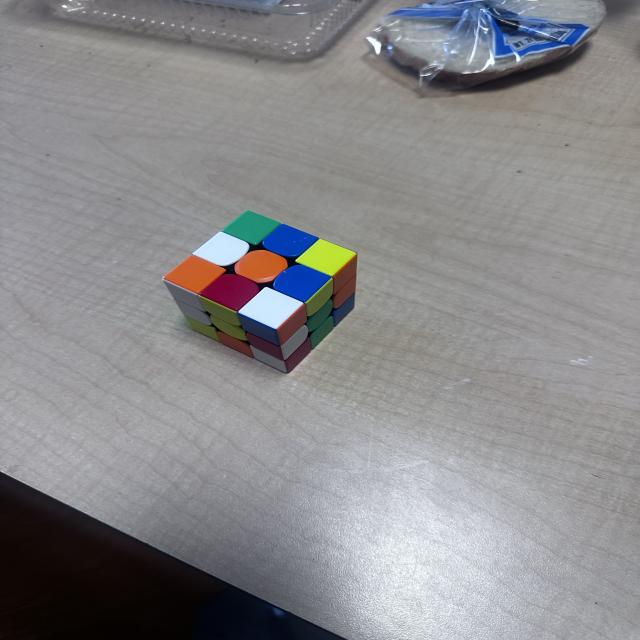sticker: (236, 287, 307, 346), (294, 237, 358, 293), (272, 264, 334, 315), (162, 253, 228, 300), (198, 273, 262, 319), (247, 326, 313, 369), (222, 209, 282, 248), (191, 230, 251, 268), (260, 223, 318, 260), (234, 249, 288, 285), (200, 295, 248, 332), (274, 306, 309, 348), (171, 296, 213, 328), (303, 279, 334, 319), (331, 252, 357, 296), (217, 330, 255, 359), (211, 313, 249, 341), (184, 315, 220, 343), (306, 296, 334, 332), (308, 313, 335, 349), (332, 269, 357, 307), (333, 292, 355, 324)
